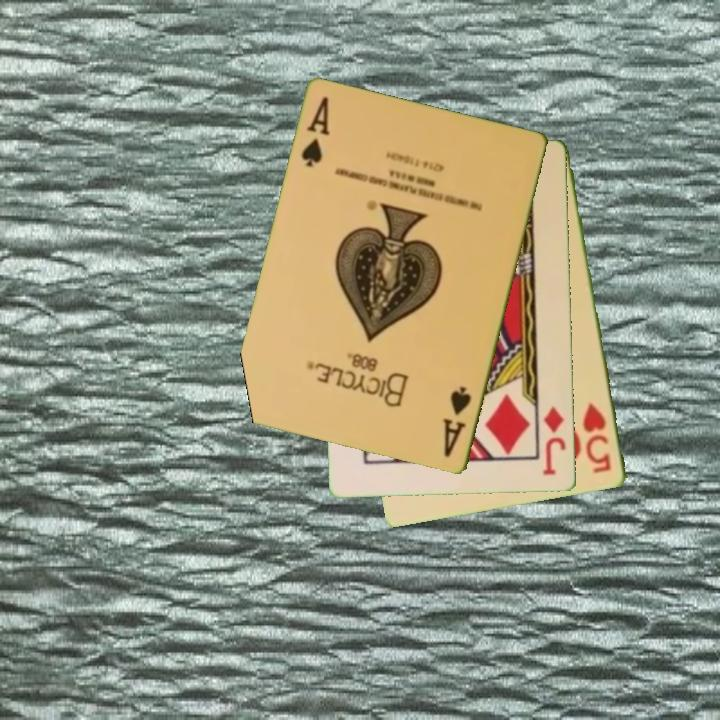5h: (580, 400, 615, 477)
As: (439, 383, 475, 461), (297, 93, 333, 171)
Jd: (540, 404, 569, 479)
